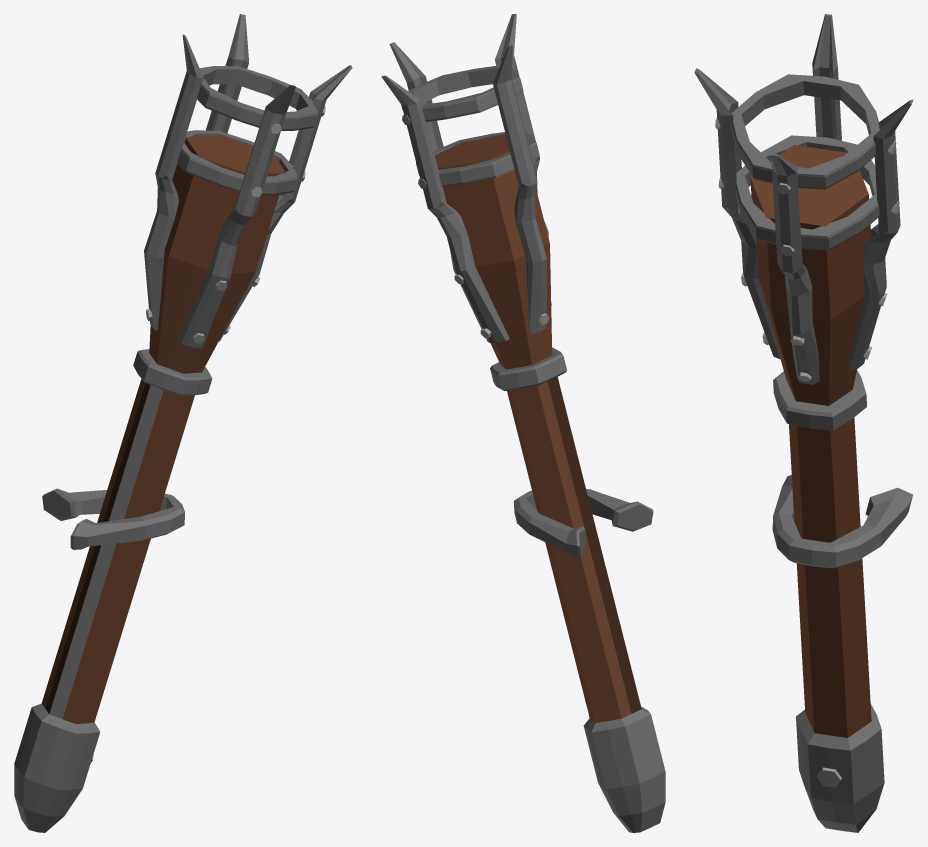
The model's file is Torch.fbx.
3 renders of one model, left to right at view 1: azimuth 30°, elevation 25°; view 2: azimuth 150°, elevation 25°; view 3: azimuth 270°, elevation 25°, orthographic. The views are drawn at different scales.
Parts seen in each view (by area): view 1: Treppe_001.002; view 2: Treppe_001.002; view 3: Treppe_001.002.
Boxes of the visible parts, x1,y1,x2,y2 form: Treppe_001.002: (14,14,352,832); Treppe_001.002: (381,14,665,832); Treppe_001.002: (694,14,913,832).
Bounding box in the file's own units: 59.6 × 142 × 31.59.
